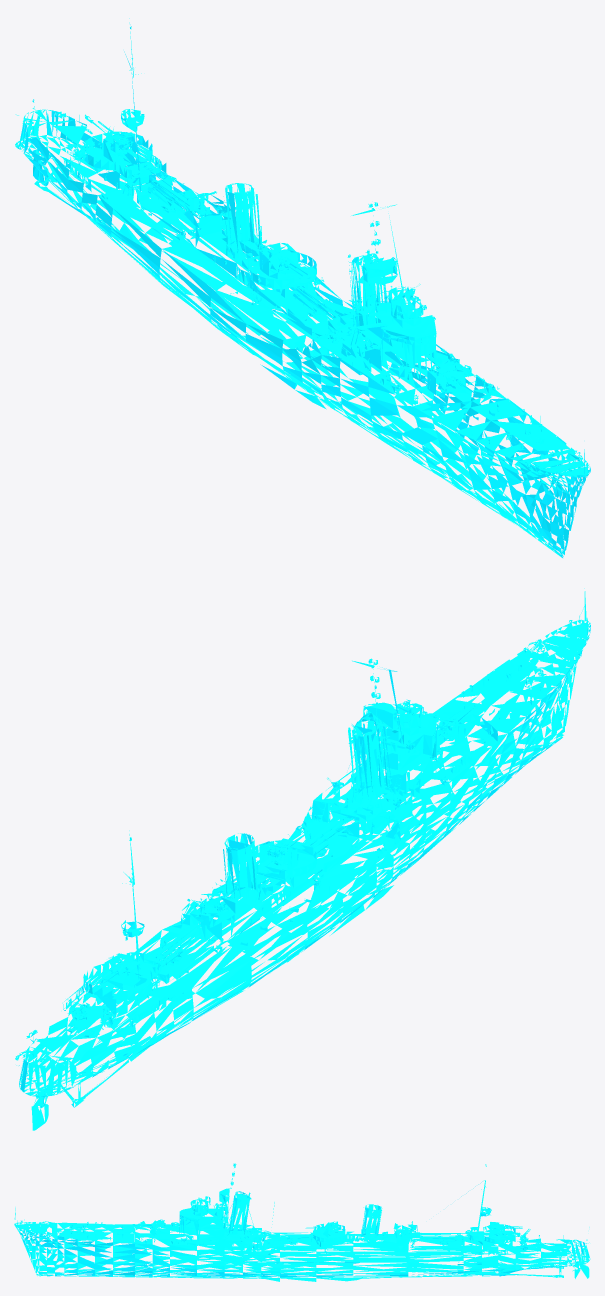
The model's file is Luca_Tarigo.glb.
3 views of the same model, one above another, from view 1: azimuth 30°, elevation 25°; view 2: azimuth 150°, elevation 25°; view 3: azimuth 270°, elevation 25° (orthographic). The views are drawn at different scales.
Size of the model in its own units: 0.7419 by 1.7 by 7.34.
